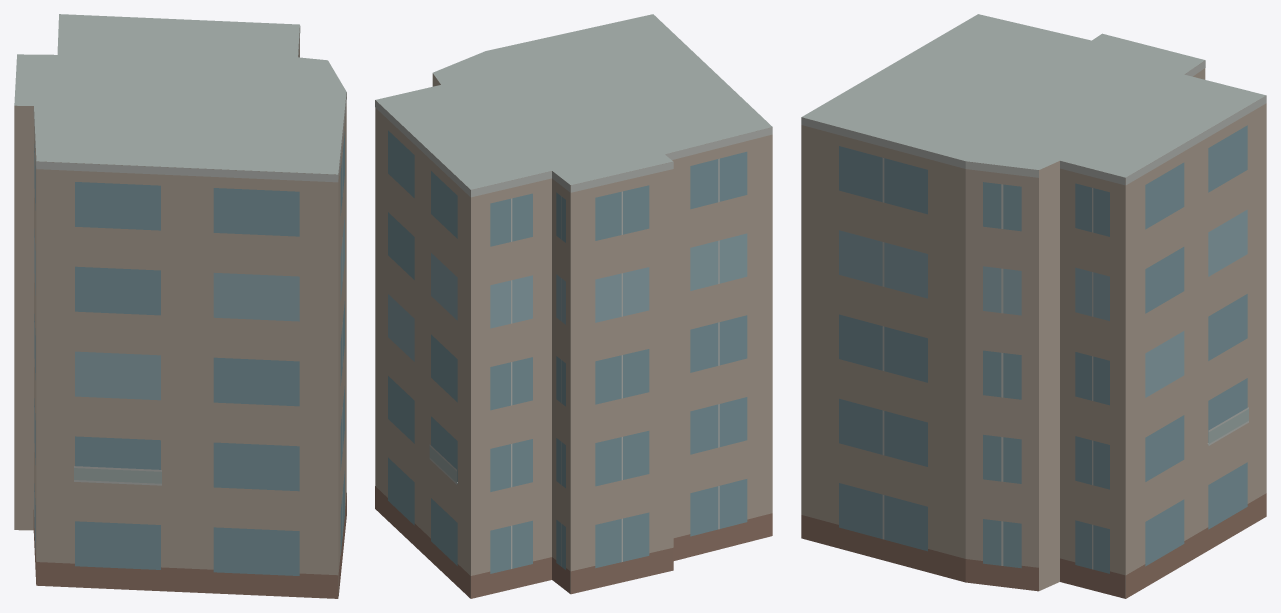
Rendered from survey-upis-32980272.glb.
3 renders of one model, left to right at view 1: azimuth 30°, elevation 25°; view 2: azimuth 150°, elevation 25°; view 3: azimuth 270°, elevation 25°, orthographic. The views are drawn at different scales.
Parts seen in each view (by area): view 1: survey-upis-32980272.tmp; view 2: survey-upis-32980272.tmp; view 3: survey-upis-32980272.tmp.
Boxes of the visible parts, x1,y1,x2,y2 form: survey-upis-32980272.tmp: (14, 14, 346, 598); survey-upis-32980272.tmp: (375, 14, 772, 598); survey-upis-32980272.tmp: (801, 14, 1266, 598).
Size of the model in its own units: 11.01 by 13.2 by 13.22.
